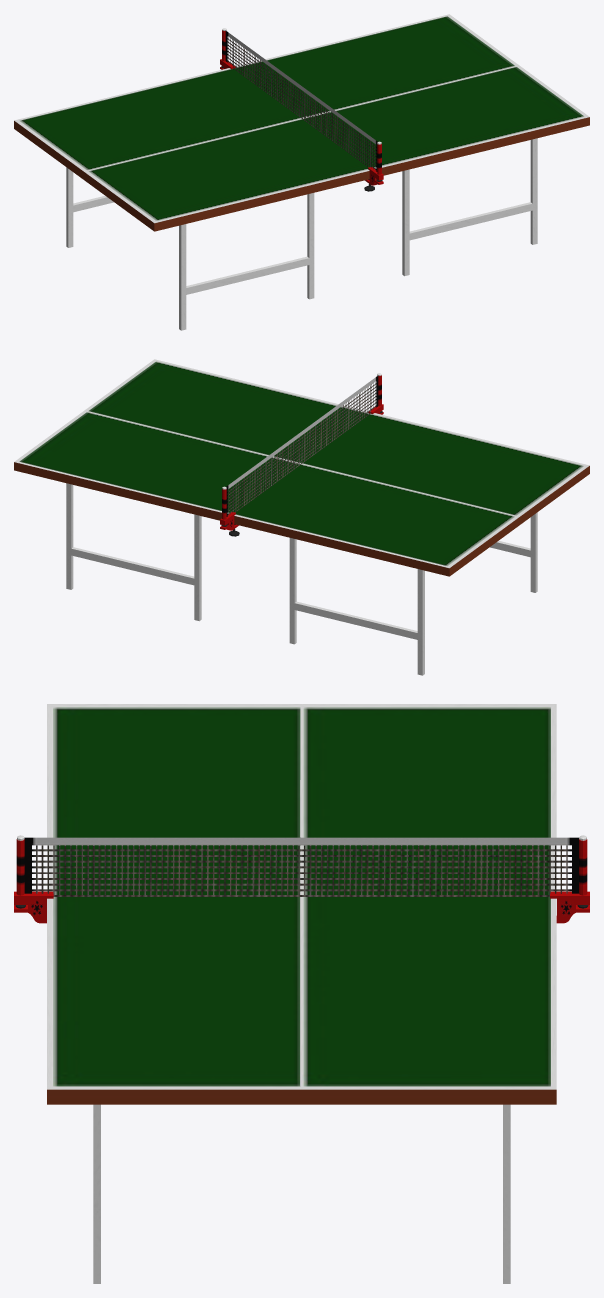
The model's file is mesa_pingpong.glb.
3 views of the same model, one above another, from view 1: azimuth 30°, elevation 25°; view 2: azimuth 150°, elevation 25°; view 3: azimuth 270°, elevation 25° (orthographic). The views are drawn at different scales.
Parts seen in each view (by area): view 1: mesa_pingpong; view 2: mesa_pingpong; view 3: mesa_pingpong.
Boxes of the visible parts, x1,y1,x2,y2 form: mesa_pingpong: [14, 14, 589, 330]; mesa_pingpong: [14, 359, 589, 675]; mesa_pingpong: [14, 704, 589, 1283].
Bounding box in the file's own units: 274 × 96 × 173.
Materials: 2 (2 with a texture image).
